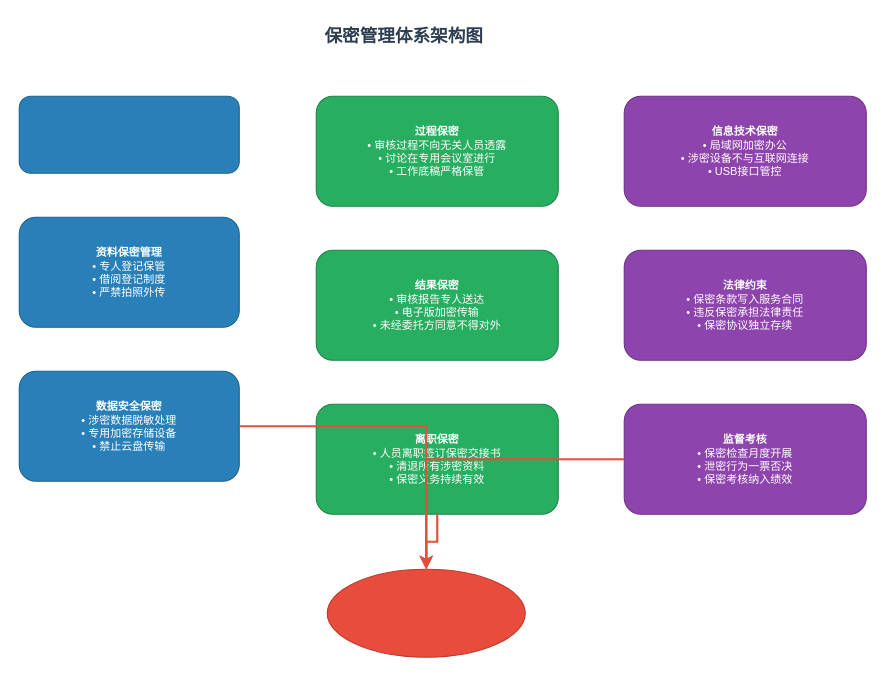
This 886x677 diagram has some shape labels left out. The shapes that lost their labels are listed below. From the top down, each one's centre as x and y in pixels, then its label:
At [128,134]: "保密承诺书签署 全部项目参与人员签署 项目启动前完成".
At [425,612]: "保密工作领导小组 组长：项目负责人 副组长：保密员".
